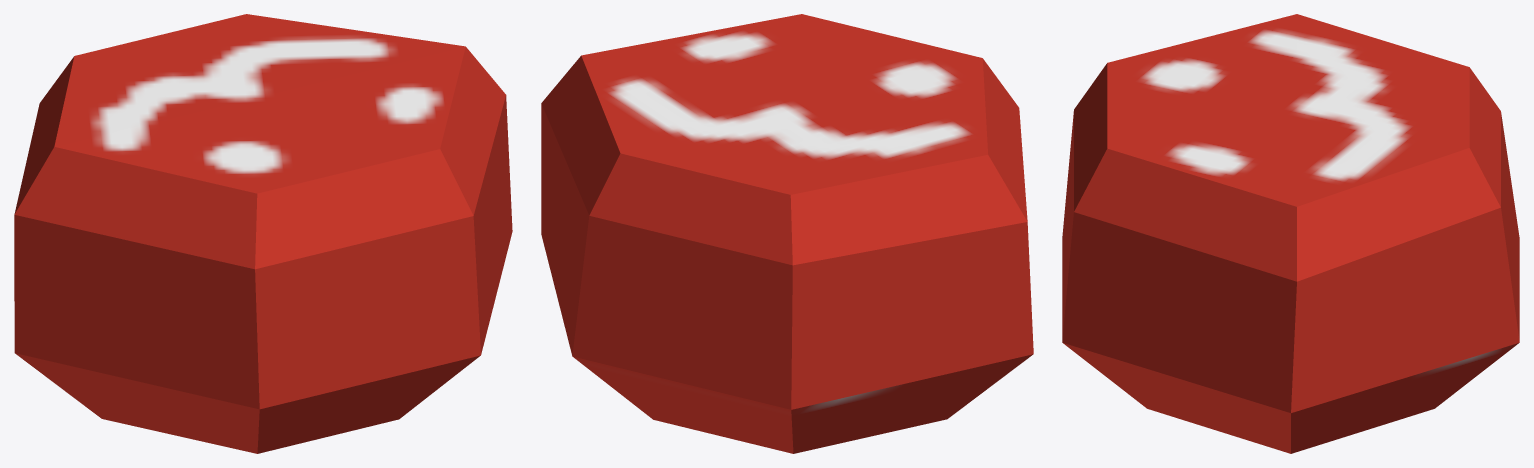
File: button lowpoly.glb
3 renders of one model, left to right at view 1: azimuth 30°, elevation 25°; view 2: azimuth 150°, elevation 25°; view 3: azimuth 270°, elevation 25°, orthographic. The views are drawn at different scales.
Parts seen in each view (by area): view 1: Button lowpoly; view 2: Button lowpoly; view 3: Button lowpoly.
Boxes of the visible parts, left/top/right/bottom form: Button lowpoly: left=14, top=14, right=512, bottom=453; Button lowpoly: left=541, top=14, right=1033, bottom=453; Button lowpoly: left=1062, top=14, right=1519, bottom=453.
Size of the model in its own units: 0.4681 by 0.283 by 0.3876.
Materials: 1 (1 with a texture image).
